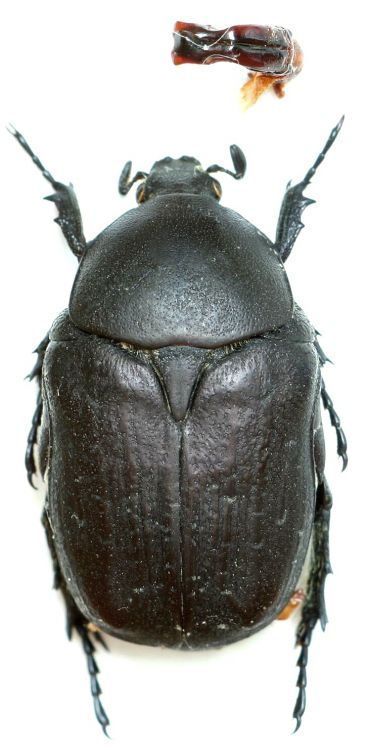Protaetia_vidua: (7, 96, 356, 750)
